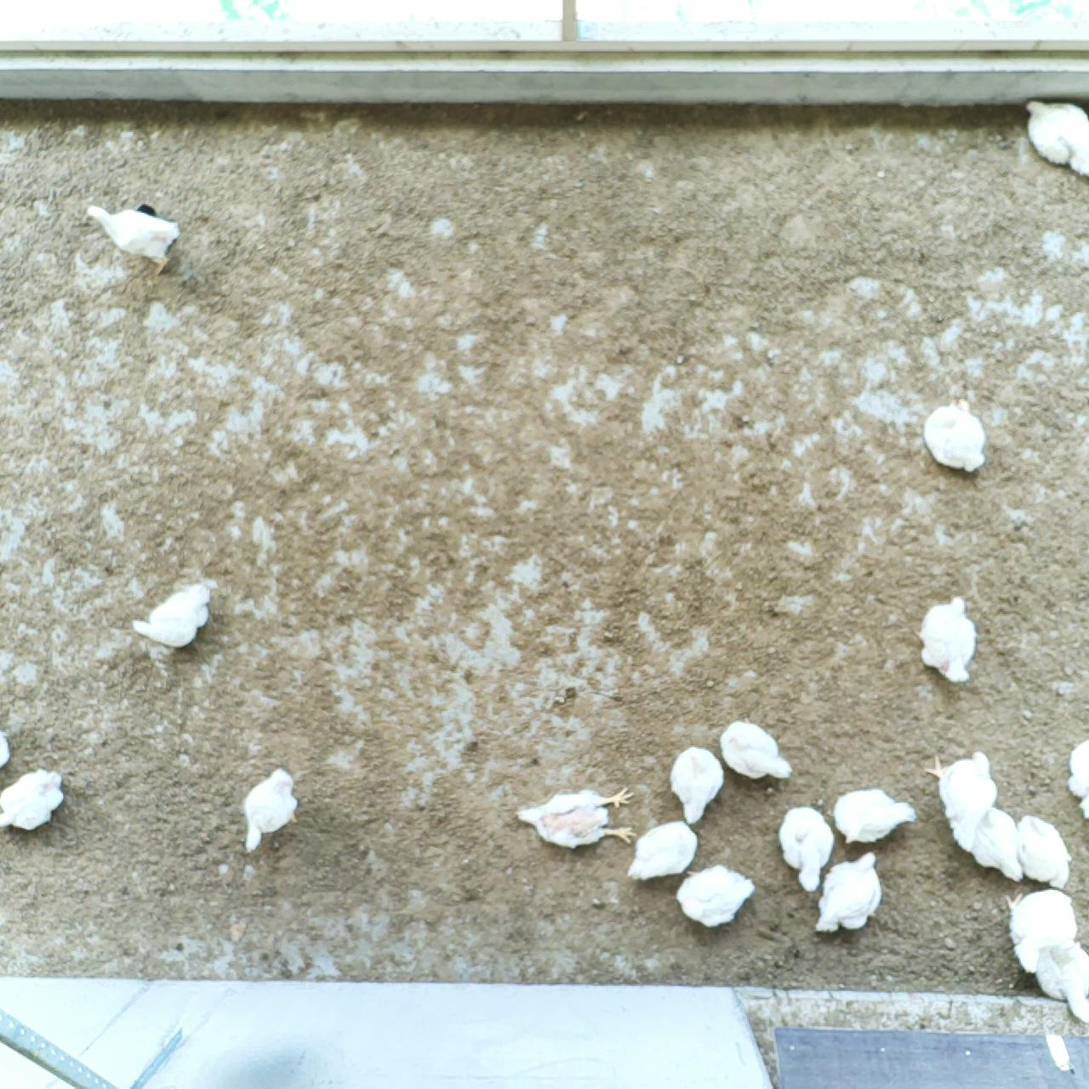chicken: (922, 742, 996, 858), (513, 782, 636, 851), (82, 202, 182, 272), (129, 578, 220, 649), (811, 852, 887, 933), (1007, 885, 1075, 972), (236, 766, 297, 855), (1023, 96, 1089, 177), (1030, 935, 1089, 1022), (675, 865, 754, 929), (923, 393, 985, 473), (0, 765, 74, 832), (834, 785, 918, 844), (927, 592, 980, 684), (1011, 811, 1070, 893), (968, 795, 1022, 883), (717, 720, 791, 784), (668, 744, 724, 827), (630, 820, 701, 885), (778, 802, 826, 890), (1063, 729, 1089, 825), (0, 721, 10, 764)
